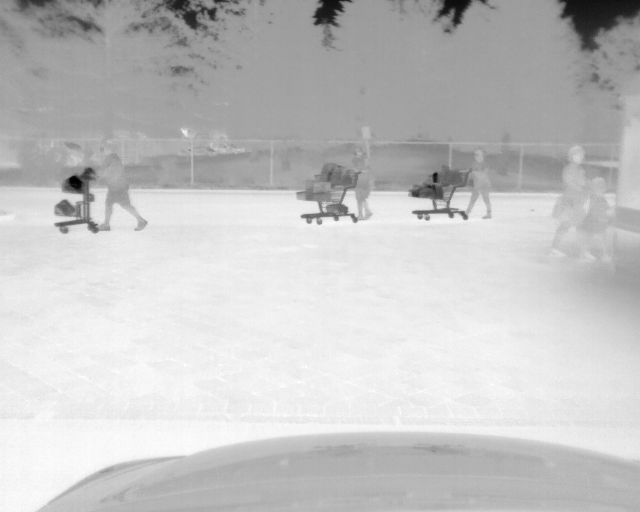people: (93, 140, 149, 233), (546, 144, 588, 260), (572, 177, 614, 271), (461, 148, 492, 220), (347, 145, 374, 222)
